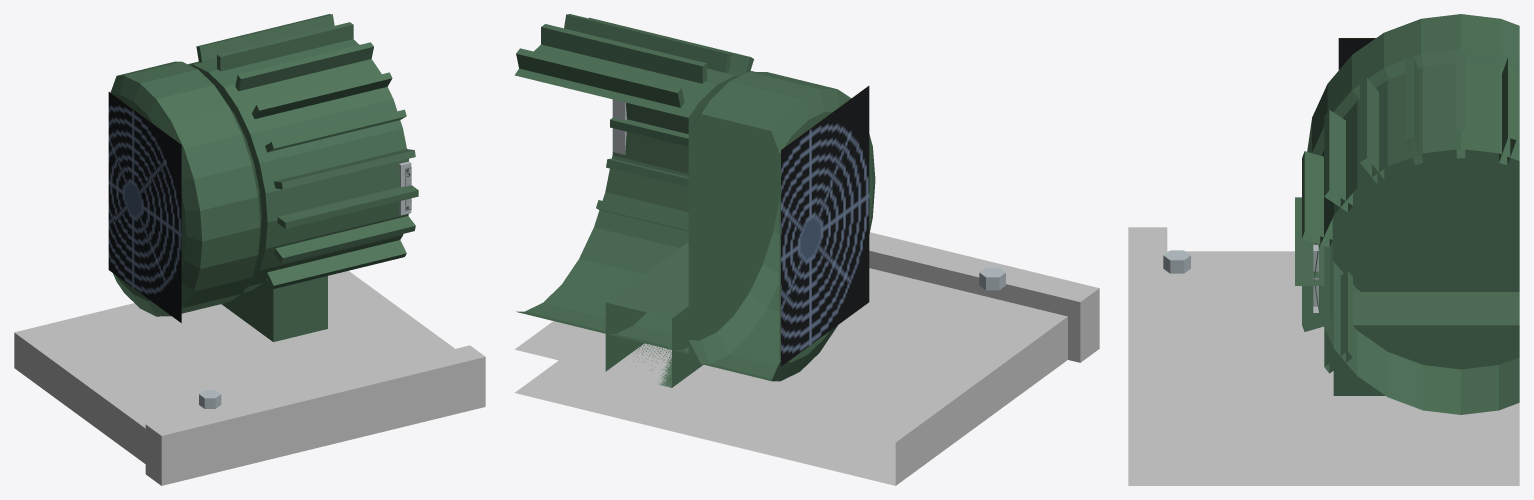
File: cell_6.obj
3 renders of one model, left to right at view 1: azimuth 30°, elevation 25°; view 2: azimuth 150°, elevation 25°; view 3: azimuth 270°, elevation 25°, orthographic. The views are drawn at different scales.
Bounding box in the file's own units: 0.95 × 0.799 × 0.8.
